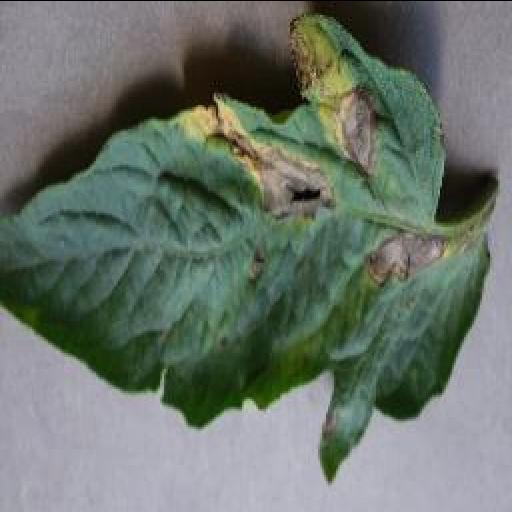disease_tomato: (2, 17, 488, 478)
